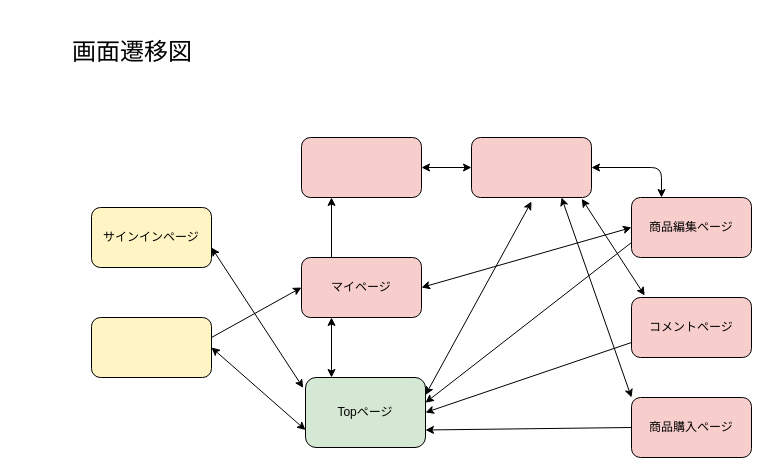
The diagram is 769 pixels wide and 475 high, and some of its shapes have lost their labels. Each missing label, with the centre of its shape:
ログインページ: pixel 151 347
商品出品ページ: pixel 361 167
商品詳細ページ: pixel 531 167
